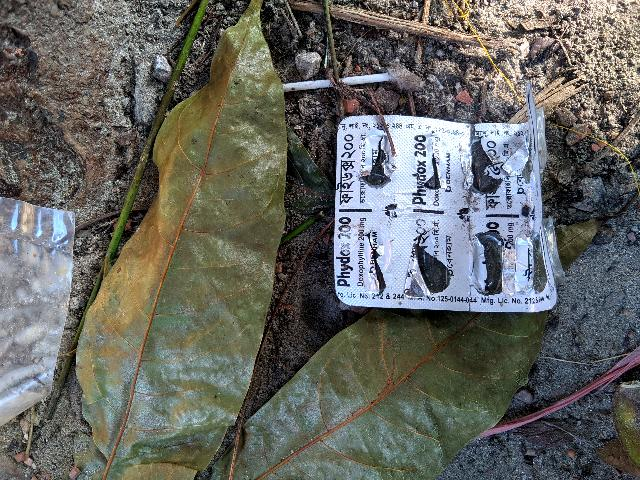medicine: (331, 108, 561, 317)
